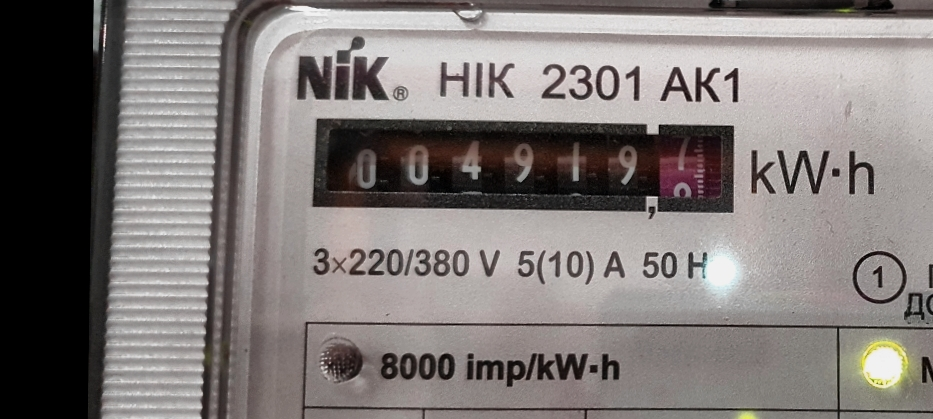0: (404, 141, 431, 187), (353, 145, 377, 189)
1: (567, 138, 582, 184)
4: (457, 137, 482, 180)
7: (668, 133, 691, 173)
9: (614, 141, 638, 188), (510, 141, 534, 185)
screen: (300, 104, 751, 231)
